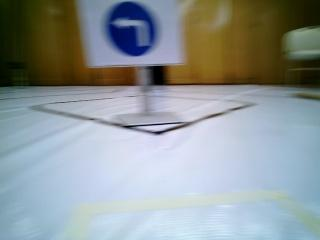left: (84, 2, 181, 63)
